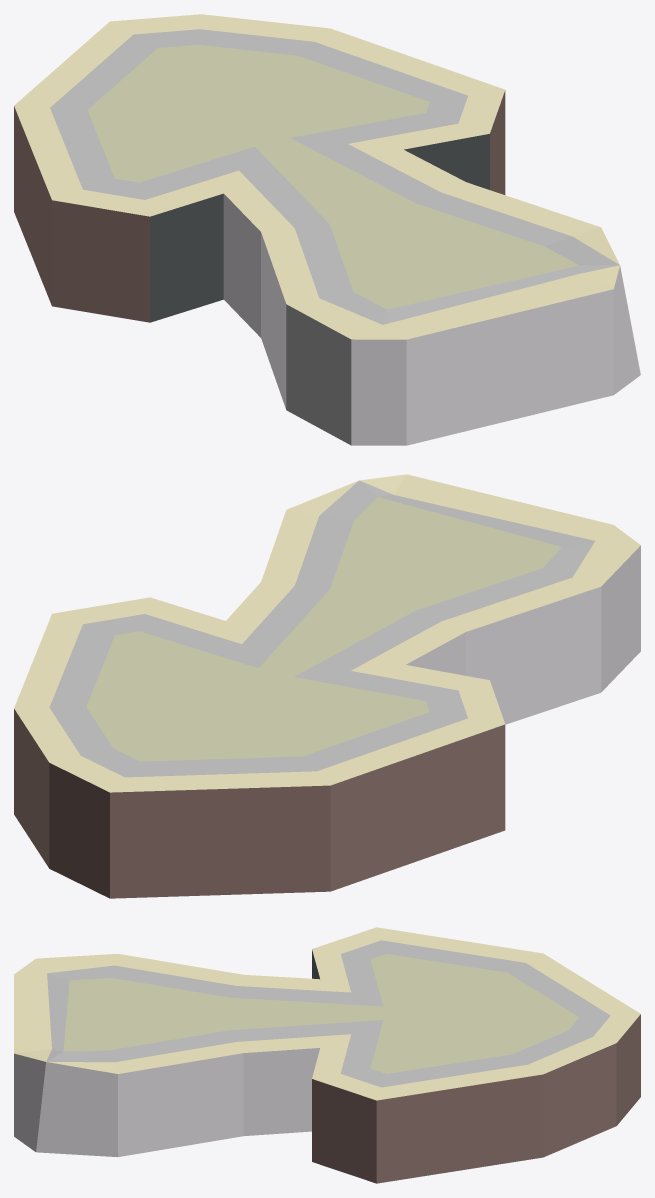
The model's file is Cremini Mushroom Slice.fbx.
3 views of the same model, one above another, from view 1: azimuth 30°, elevation 25°; view 2: azimuth 150°, elevation 25°; view 3: azimuth 270°, elevation 25° (orthographic). The views are drawn at different scales.
Parts seen in each view (by area): view 1: Cremini Mushroom Slice; view 2: Cremini Mushroom Slice; view 3: Cremini Mushroom Slice.
Part boxes in pixels (left/top/right/bottom): Cremini Mushroom Slice: left=14, top=14, right=640, bottom=445; Cremini Mushroom Slice: left=14, top=474, right=640, bottom=898; Cremini Mushroom Slice: left=14, top=927, right=640, bottom=1183.
Bounding box in the file's own units: 3.1 × 0.7096 × 4.75.
